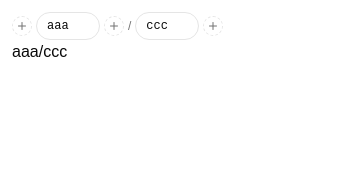
Test case: SegmentedPathInput › inserts a level before the first segment
This screenshot has width=340, height=172.
Click the button with test id "path-insert-0" at (22, 26), box [12,16,32,36]
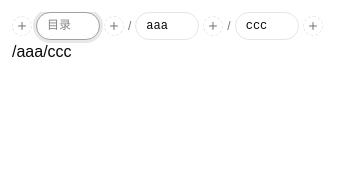
Type "root" into the field with placeholder "目录" at (68, 26), box [36,12,100,40]
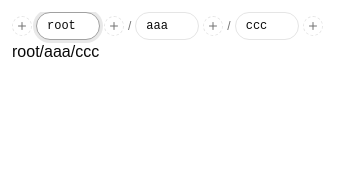
Check: the field with test id "path-dir-1" holds "aaa", box [135,12,199,40]
Check: the field with test id "path" holds "ccc", box [235,12,299,40]
Check: the text with test id "joined" reads "root/aaa/ccc", box [12,43,99,60]
